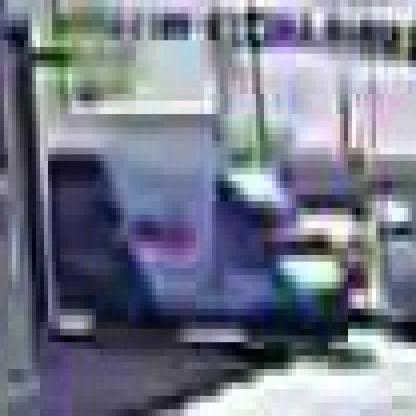truck: (45, 115, 349, 350)
